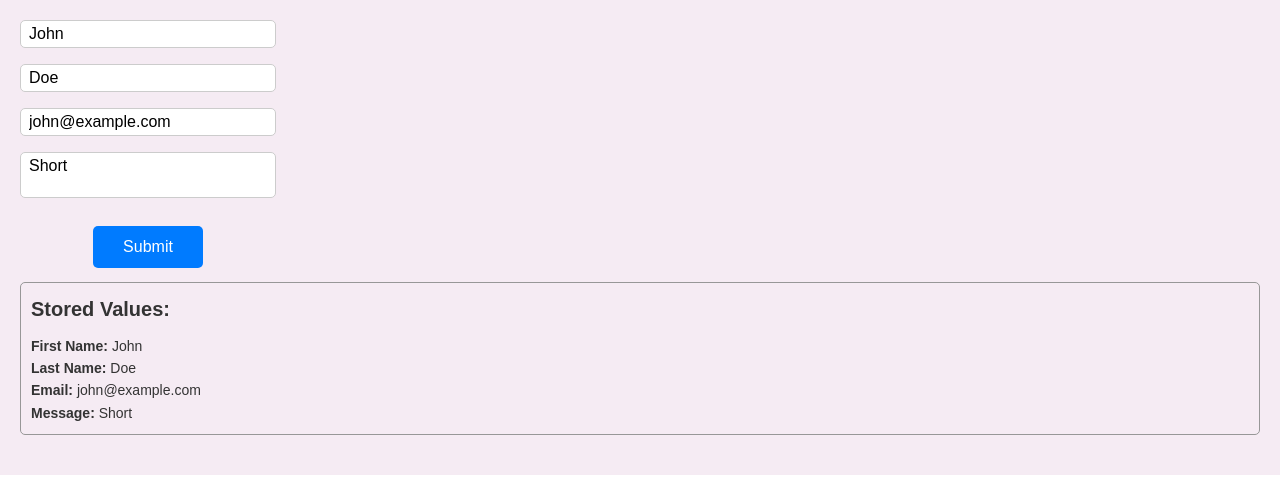
Test: Form Component › displays validation error for short message
What coordinates should you click on to do the following:
click the button "Submit"
I would click on:
 (148, 247)
Its box is [93,226,203,268].
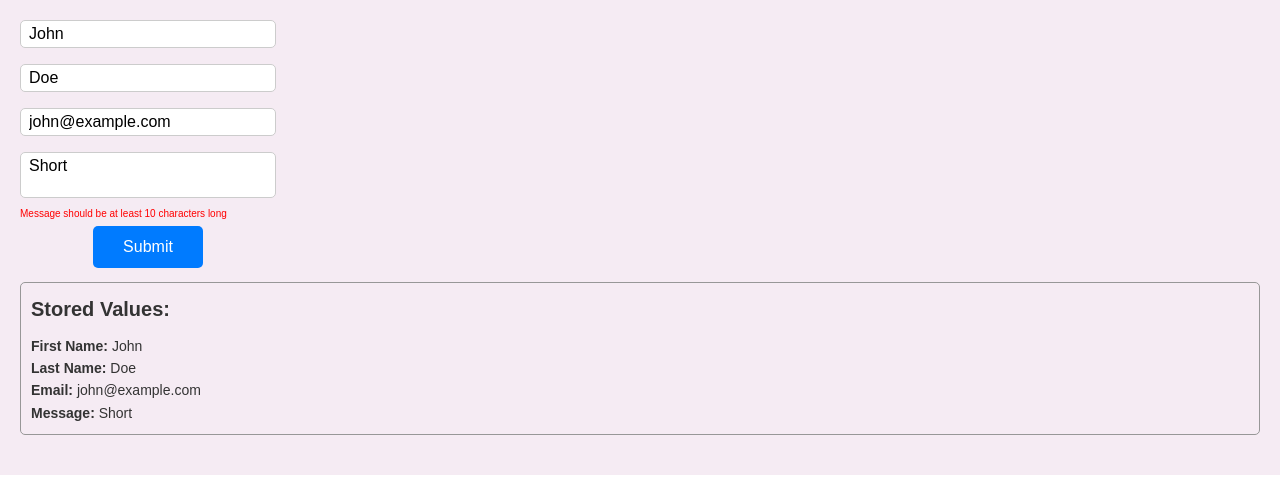
Result: the text "Message should be at least 10 characters long" is shown at [20,206,227,222]
